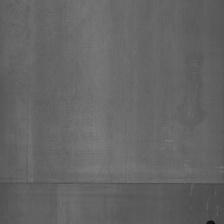welding_line: (2, 170, 224, 196), (206, 217, 216, 224)
